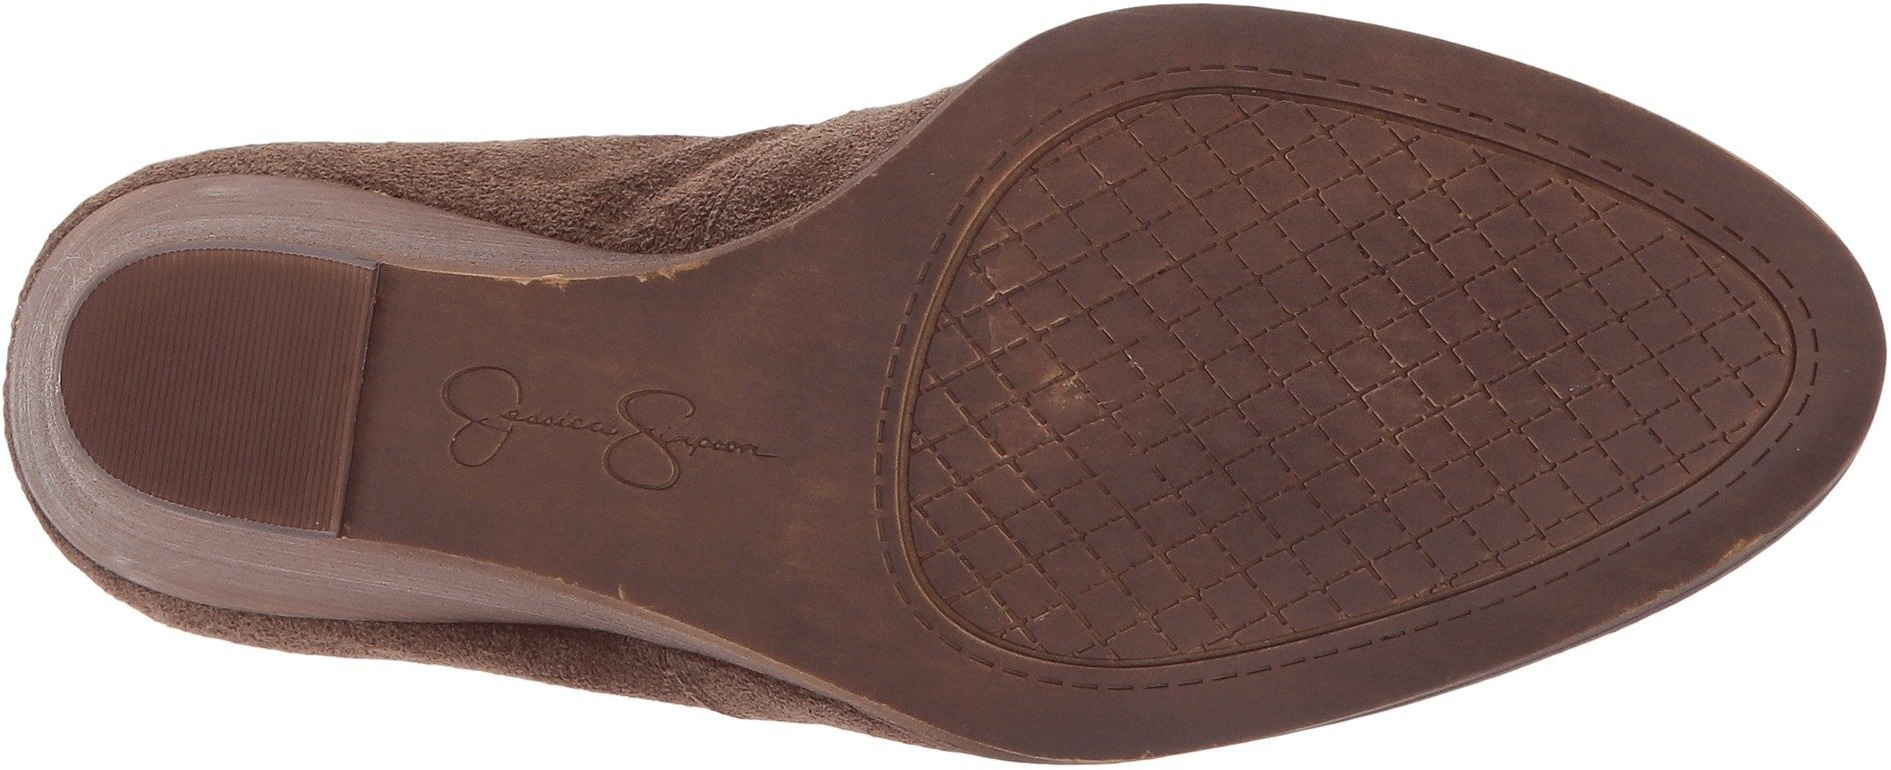exclude: (333, 129, 868, 692)
line: (1289, 170, 1618, 512), (939, 301, 1271, 611), (1110, 106, 1276, 278)
other: (137, 272, 336, 473)
quad: (939, 301, 1271, 611), (1110, 106, 1276, 278)
